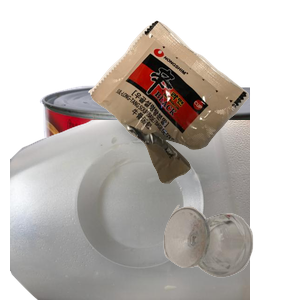glass: (161, 202, 300, 300)
metal: (37, 81, 277, 261)
plastic: (10, 120, 250, 300)
trash: (86, 18, 300, 194)
